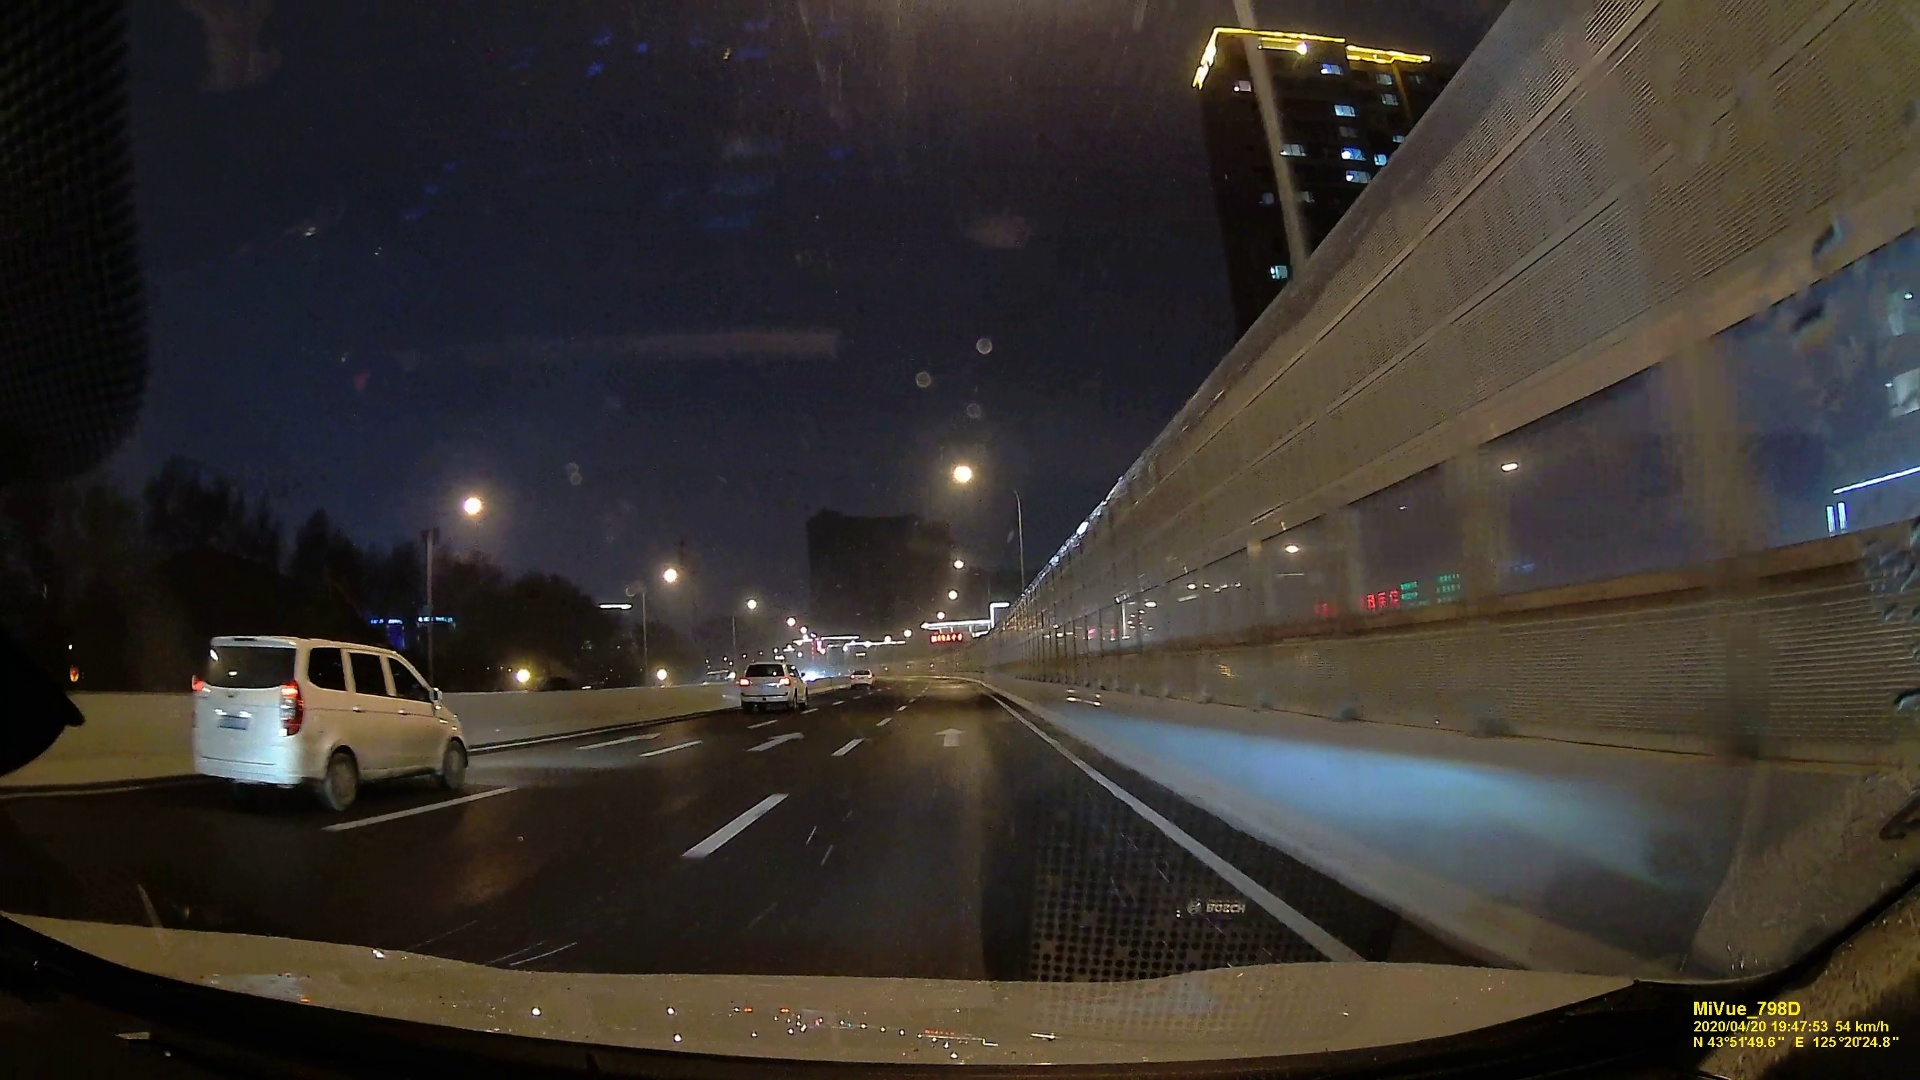minibus: (849, 670, 872, 687)
vehicle: (185, 630, 469, 823), (738, 661, 807, 711)
